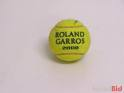tennis ball: (48, 18, 92, 62)
